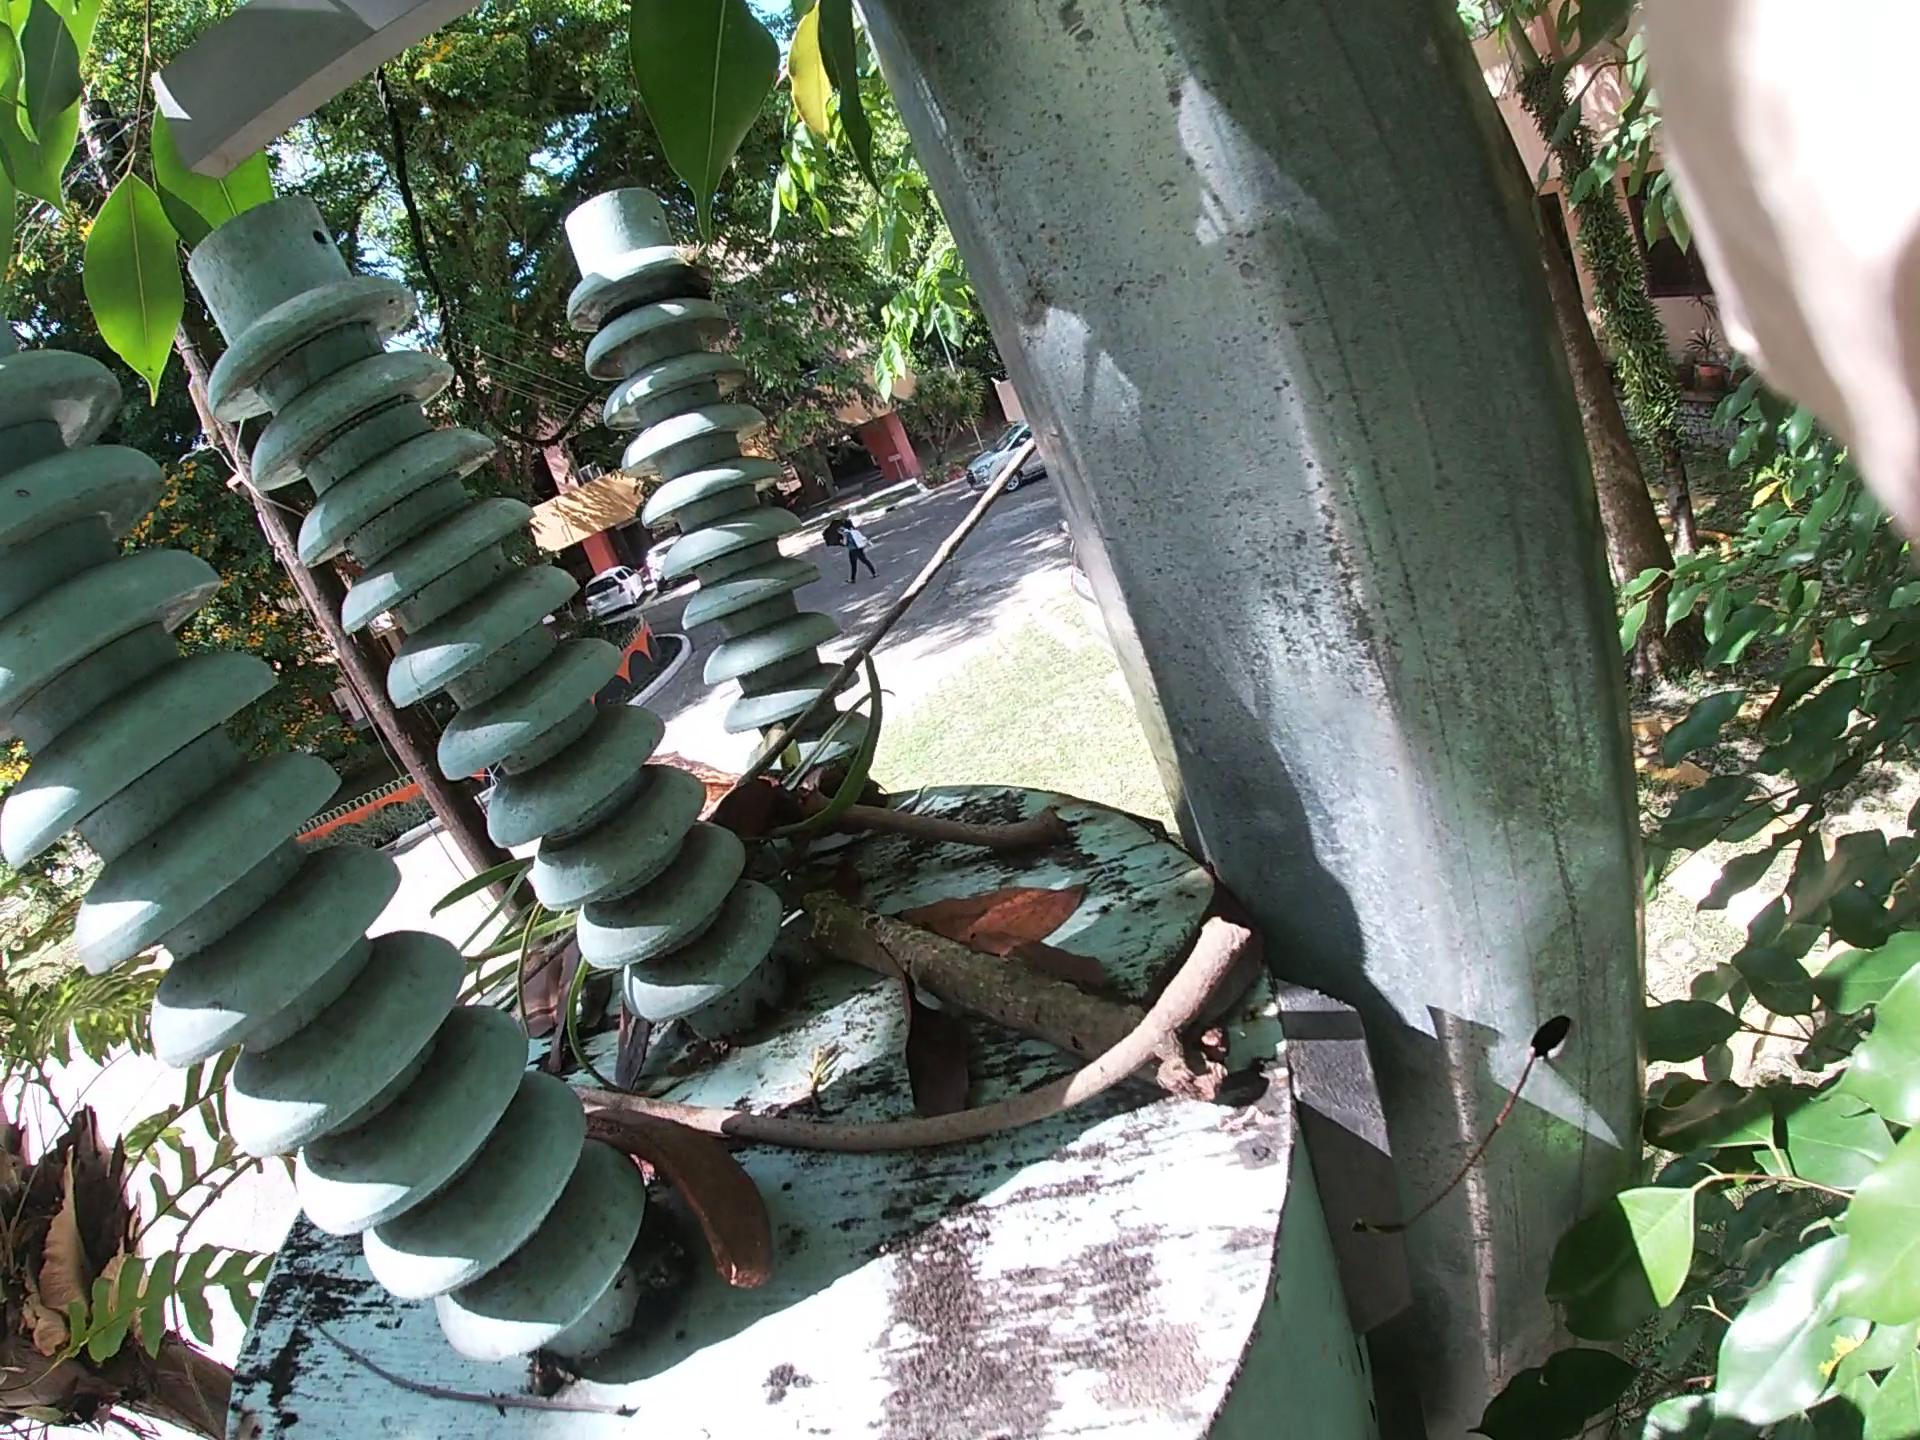branch with leaves: (434, 731, 919, 1015)
leaf: (872, 843, 1119, 1082)
mahogany fruit: (519, 1032, 884, 1290)
tree branch: (534, 333, 1045, 1004), (797, 836, 1324, 1153), (225, 1293, 697, 1432)
